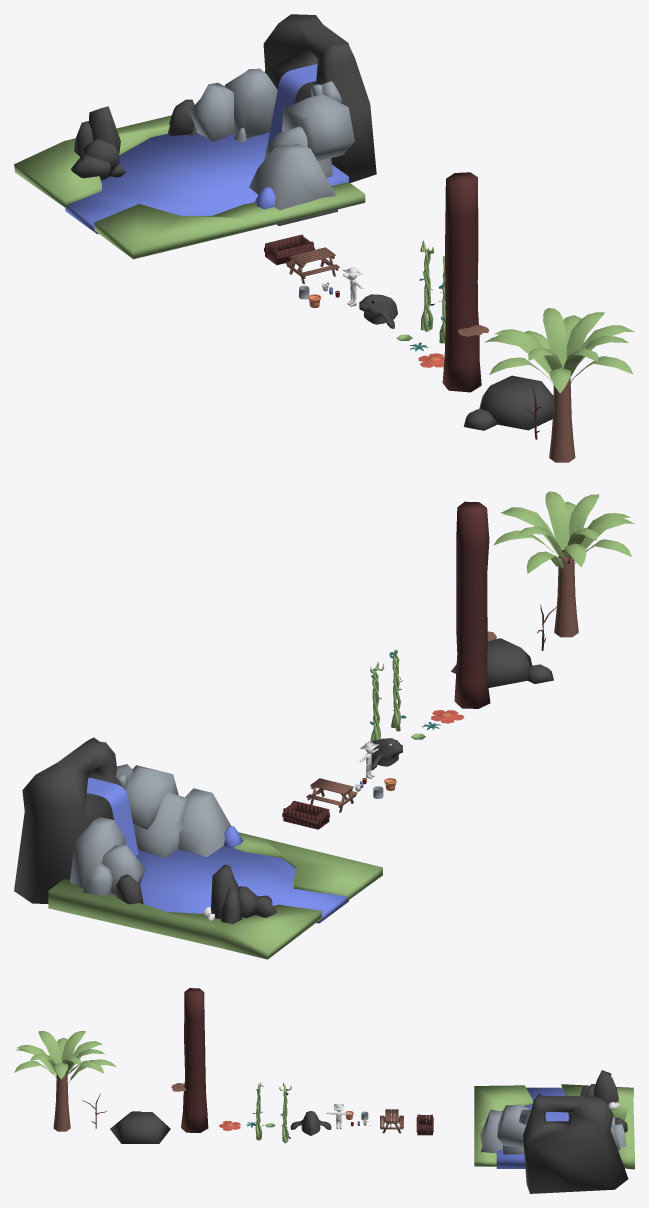
The model's file is Capstone Master File .fbx.
The picture shows the model from 3 angles, top to bottom: view 1: azimuth 30°, elevation 25°; view 2: azimuth 150°, elevation 25°; view 3: azimuth 270°, elevation 25°; orthographic projection. The views are drawn at different scales.
Parts seen in each view (by area): view 1: water pond, ground, big rock, 2 rock.002, bigTree, Palm, ROCK.001, 2 rock, tall rock.002, small rock, water, tall rock.001 (+5 smaller); view 2: ground, 2 rock.002, water pond, big rock, bigTree, Palm, 2 rock, tall rock.002, ROCK.001, tall rock.001, water, wood (+3 smaller); view 3: 2 rock.002, ground, bigTree, Palm, big rock, ROCK.001, water pond, tall rock.001, Dugong, Table, wood, Vine Grab.
Boxes of the visible parts, x1=… form: water pond: x1=65, y1=132, x2=348, y2=234; ground: x1=14, y1=115, x2=365, y2=259; big rock: x1=249, y1=81, x2=354, y2=225; 2 rock.002: x1=263, y1=14, x2=376, y2=182; bigTree: x1=442, y1=172, x2=481, y2=392; Palm: x1=484, y1=308, x2=634, y2=462; ROCK.001: x1=479, y1=375, x2=553, y2=430; 2 rock: x1=224, y1=68, x2=277, y2=142; tall rock.002: x1=189, y1=83, x2=234, y2=141; small rock: x1=71, y1=138, x2=125, y2=180; water: x1=267, y1=64, x2=317, y2=144; tall rock.001: x1=74, y1=106, x2=120, y2=156; ground: x1=48, y1=832, x2=382, y2=959; 2 rock.002: x1=14, y1=737, x2=117, y2=903; water pond: x1=136, y1=825, x2=348, y2=923; big rock: x1=113, y1=764, x2=230, y2=858; bigTree: x1=454, y1=501, x2=490, y2=708; Palm: x1=493, y1=491, x2=634, y2=637; 2 rock: x1=70, y1=817, x2=125, y2=888; tall rock.002: x1=83, y1=845, x2=145, y2=896; ROCK.001: x1=451, y1=638, x2=532, y2=687; tall rock.001: x1=211, y1=864, x2=242, y2=924; water: x1=87, y1=778, x2=138, y2=856; wood: x1=282, y1=801, x2=329, y2=829; 2 rock.002: x1=523, y1=1094, x2=628, y2=1193; ground: x1=474, y1=1084, x2=634, y2=1169; bigTree: x1=181, y1=988, x2=208, y2=1132; Palm: x1=14, y1=1031, x2=116, y2=1131; big rock: x1=480, y1=1104, x2=531, y2=1154; ROCK.001: x1=110, y1=1112, x2=170, y2=1143; water pond: x1=496, y1=1087, x2=569, y2=1168; tall rock.001: x1=593, y1=1070, x2=618, y2=1105; Dugong: x1=290, y1=1111, x2=331, y2=1135; Table: x1=380, y1=1109, x2=403, y2=1133; wood: x1=416, y1=1114, x2=433, y2=1135; Vine Grab: x1=279, y1=1082, x2=291, y2=1143.
Size of the model in its own units: 2226 by 1662 by 6246.
